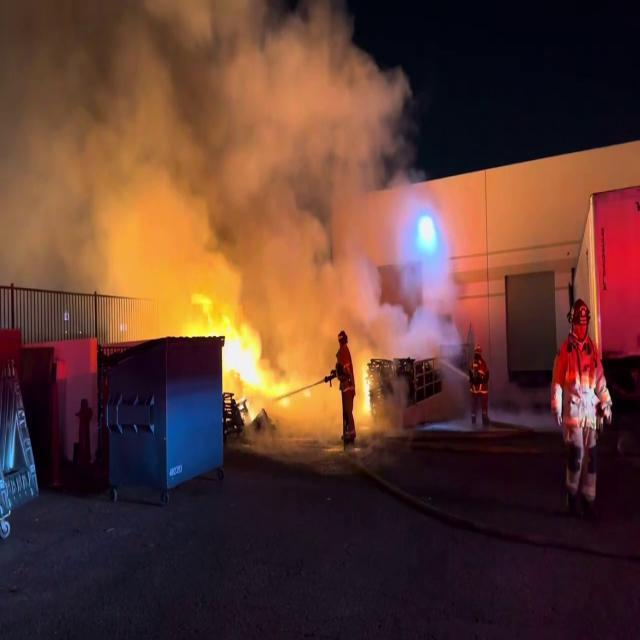Fire: (212, 298, 285, 406)
Smoke: (2, 0, 426, 340)
